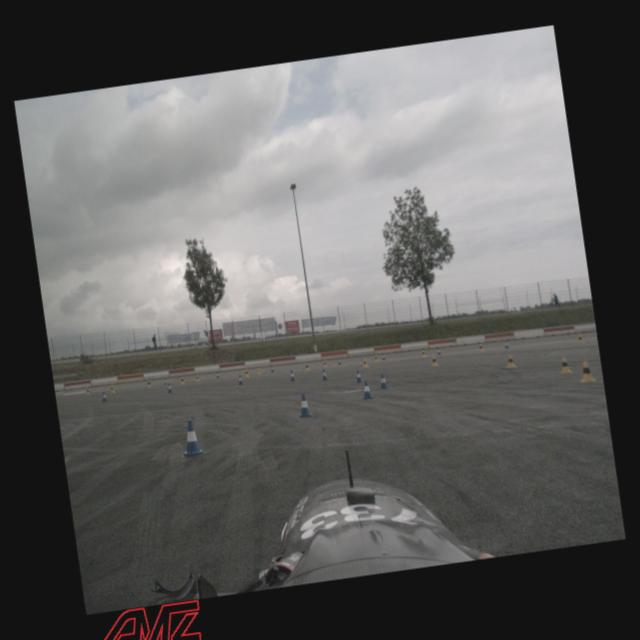blue_cone: (179, 418, 206, 458), (296, 392, 314, 418), (360, 380, 374, 400), (378, 372, 389, 390), (354, 369, 364, 383), (288, 369, 296, 382), (320, 368, 328, 381), (100, 392, 108, 404), (236, 374, 244, 386), (166, 382, 174, 393), (504, 340, 511, 349), (337, 358, 342, 366), (163, 378, 168, 386), (436, 348, 442, 354), (216, 372, 220, 379), (382, 353, 386, 360), (270, 365, 274, 372)
yellow_cone: (578, 359, 598, 385), (557, 355, 574, 375), (504, 354, 517, 369), (576, 334, 585, 346), (431, 355, 438, 367), (362, 357, 369, 369), (304, 362, 311, 372), (478, 342, 484, 353), (244, 368, 250, 379), (256, 366, 262, 376), (109, 384, 115, 394), (146, 379, 152, 388), (421, 349, 426, 359), (180, 377, 185, 385), (374, 354, 378, 364), (322, 361, 327, 368), (196, 376, 199, 380)
